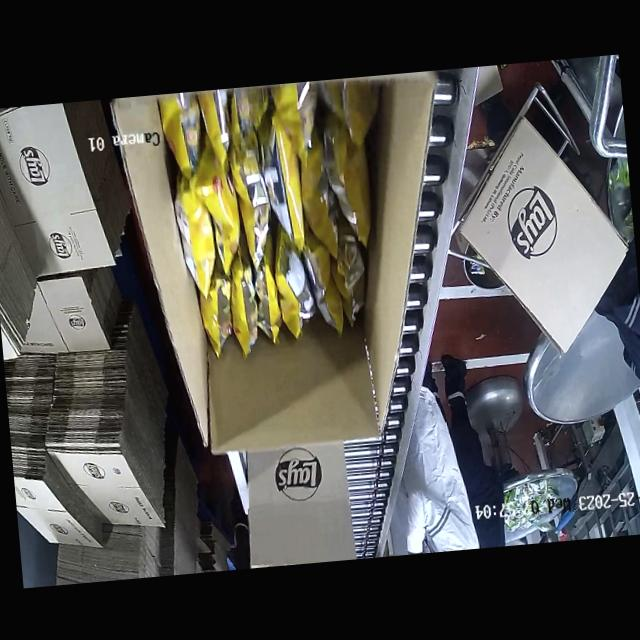salted: (165, 78, 365, 368)
